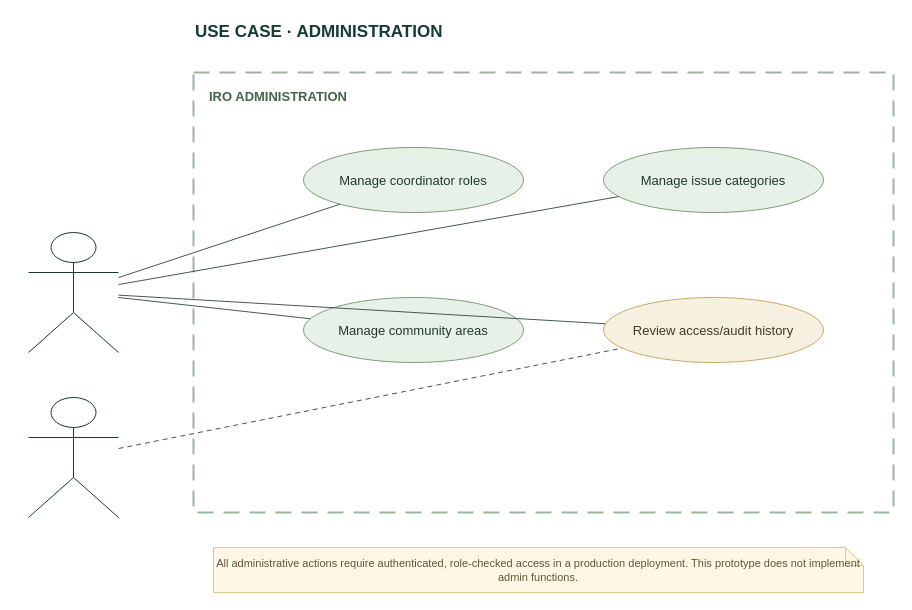
This 912x610 diagram has some shape labels left out. The centre of each missing label's shape, as x and y in pixels:
IRO Coordinator: (x=73, y=457)
System Administrator: (x=73, y=292)
